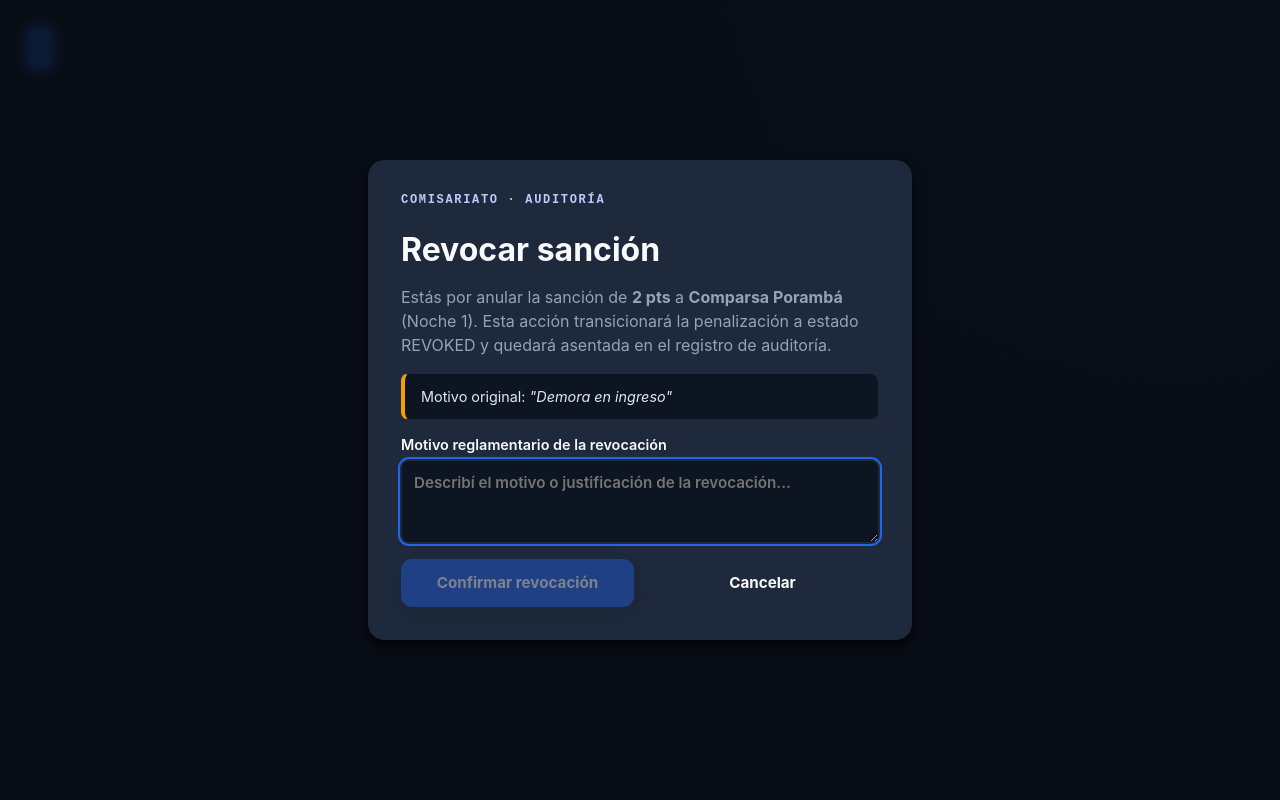
RevokePenaltyModal › muestra mensajes de error traducidos ante respuestas de error de la API
The image size is (1280, 800).
Type "Descargo tardío" into the text box labelled "Motivo reglamentario de la revocación" at (640, 501), box [401, 460, 879, 543]
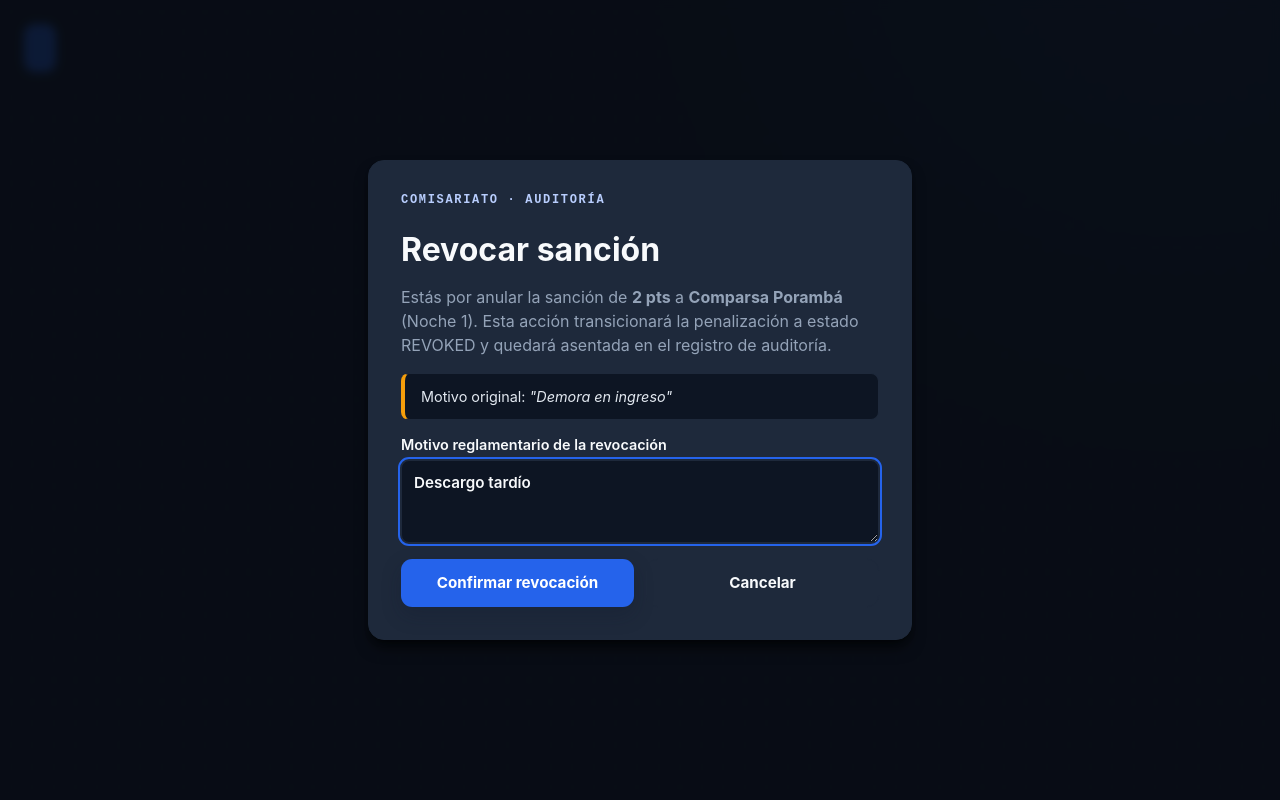
Click the button "Confirmar revocación" at (518, 583), box [401, 559, 634, 607]
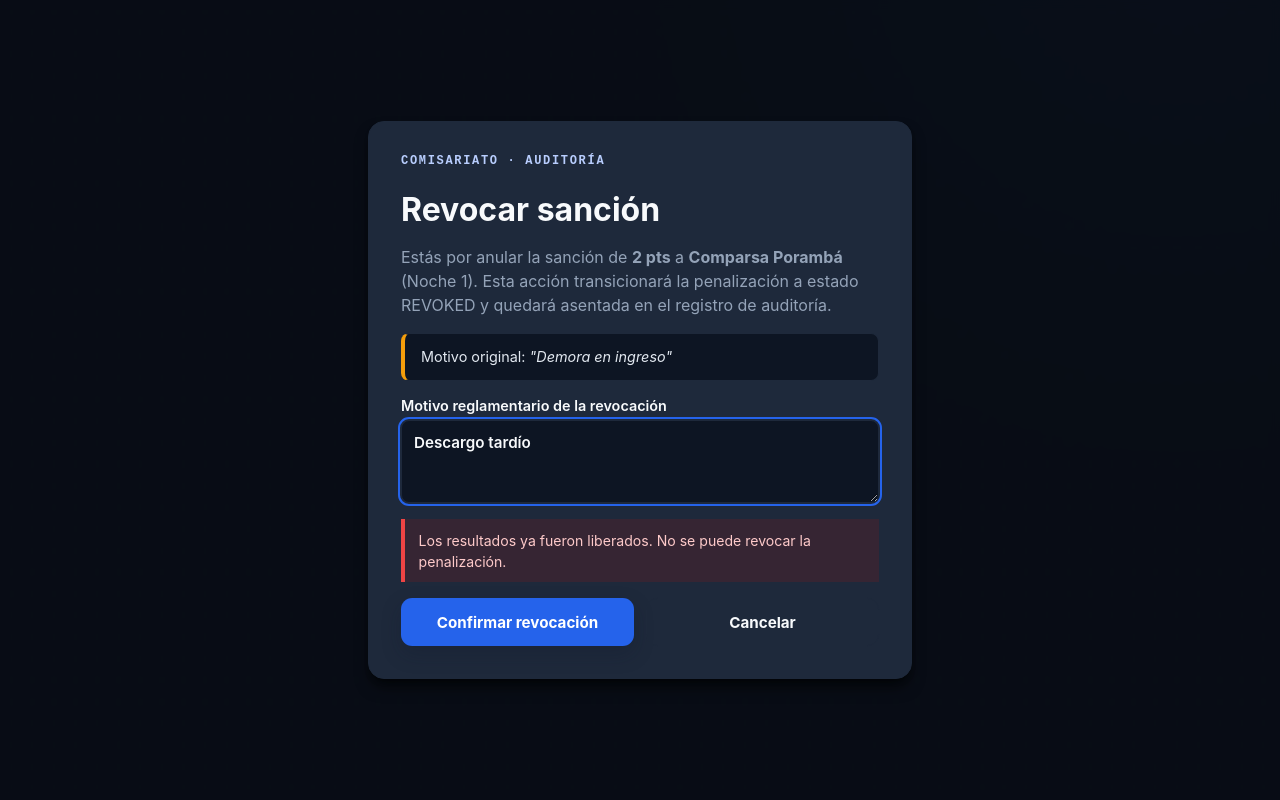
Check: the text "Los resultados ya fueron liberados. No se puede revocar la penalización." is shown, box [401, 519, 879, 582]
